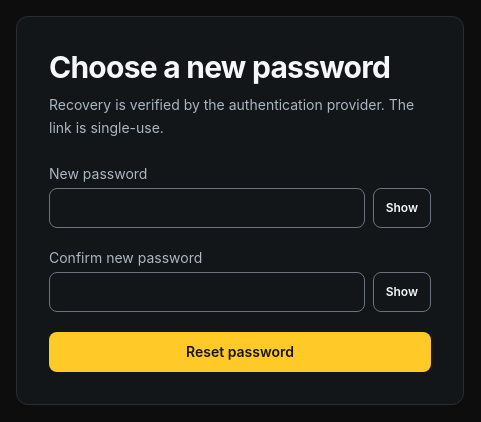
Test: ResetPasswordForm › consumes a recovery token without persisting it in browser storage or history
Type "new-recovery-password" into the password field labelled "New password" at (207, 208), box [49,188,365,228]
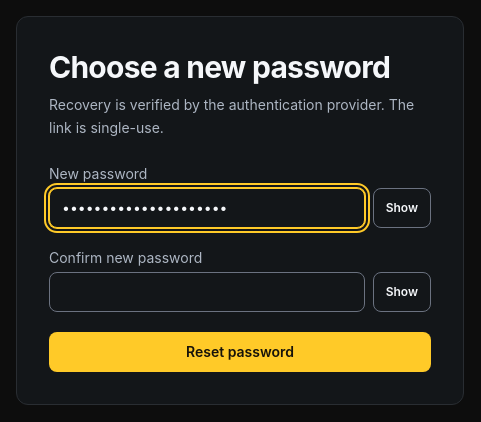
Type "new-recovery-password" into the password field labelled "Confirm new password" at (207, 292), box [49,272,365,312]
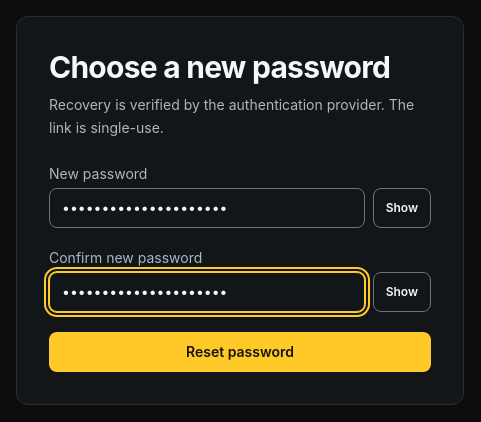
Click the button "Reset password" at (240, 352), box [49,332,431,372]
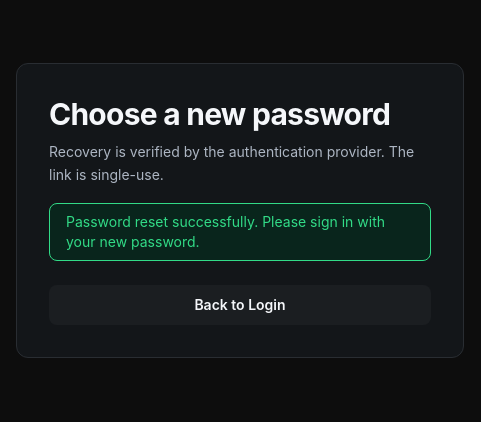
Now the message shows "Please sign in", box [66,212,385,250]
